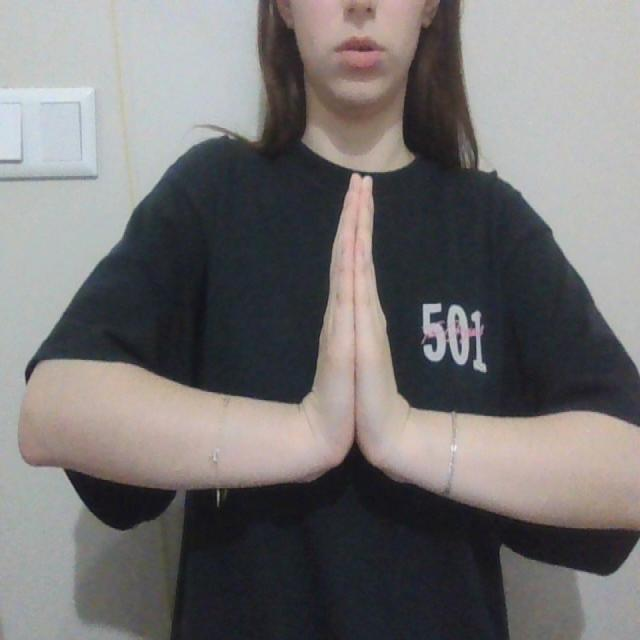Ozur-Dilemek: (293, 166, 418, 498)
